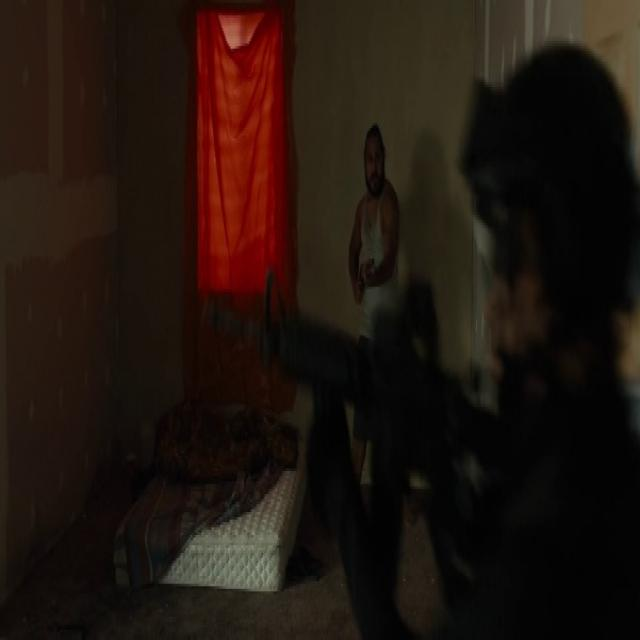rifle: (255, 264, 487, 539)
